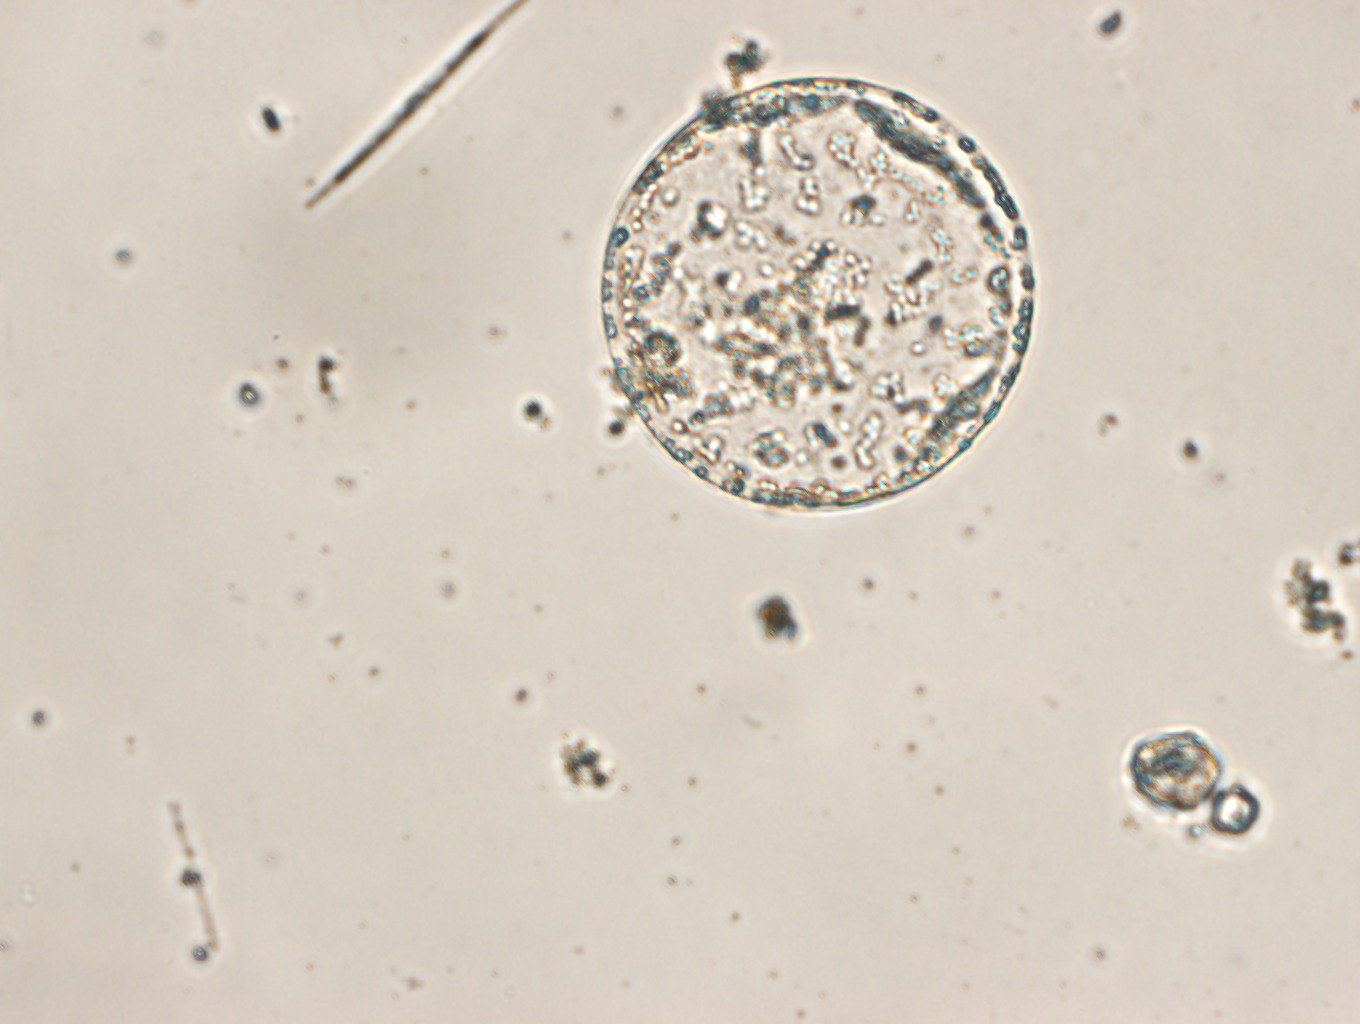coscinodiscus: (601, 74, 1037, 511)
